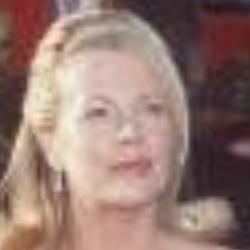face: (8, 8, 205, 230)
